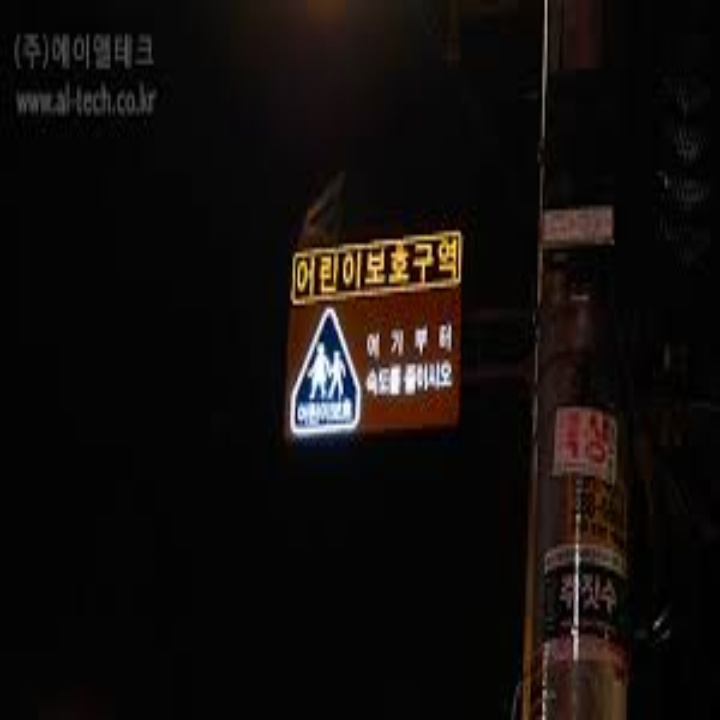child: (297, 339, 363, 405)
